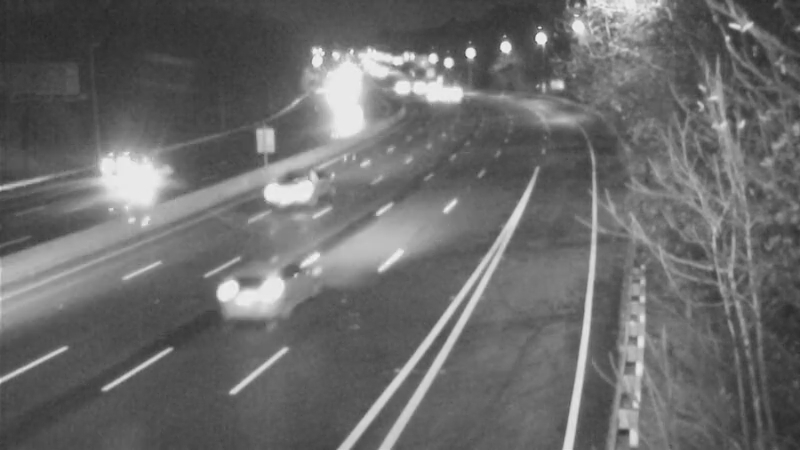vehicle: (264, 147, 344, 227), (212, 256, 292, 336), (64, 123, 144, 203), (92, 147, 172, 227), (314, 91, 364, 141)
